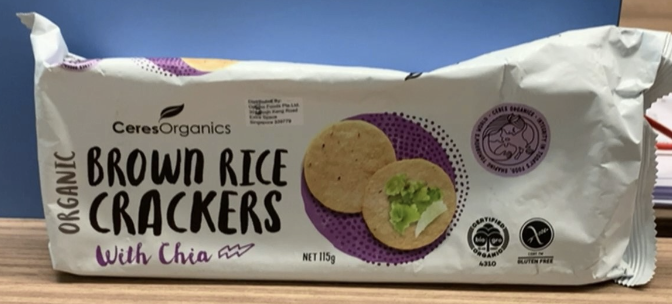crackers_100g-199g: (51, 57, 604, 269)
